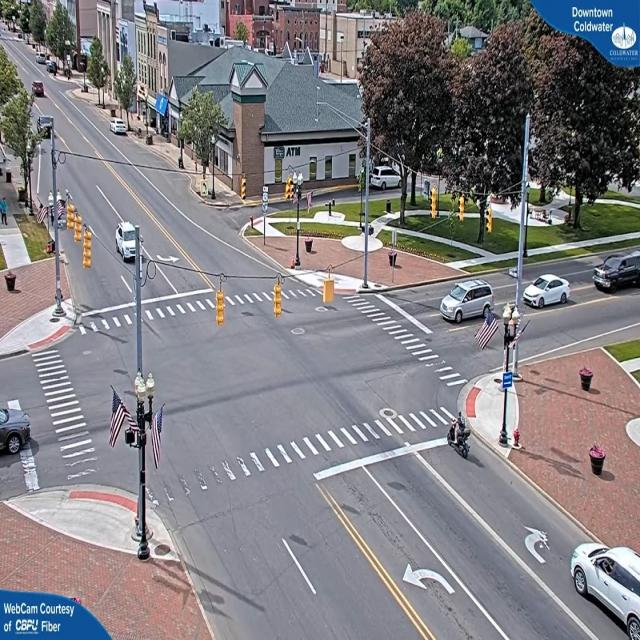car: (572, 544, 639, 639), (441, 278, 496, 326), (592, 252, 640, 294), (0, 402, 32, 459), (523, 272, 571, 308), (115, 222, 142, 261), (111, 120, 129, 136), (34, 82, 47, 98)
motorbike: (446, 411, 472, 463)
